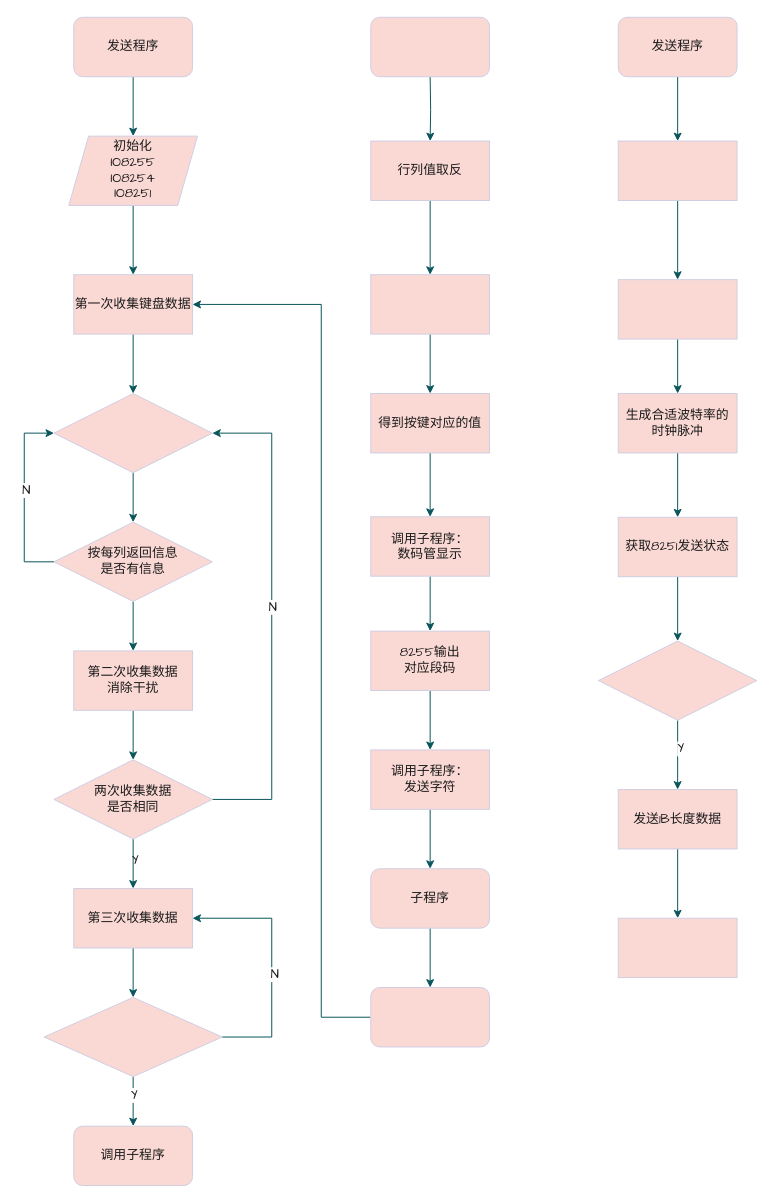
Image size: 774x1203. Some labels were removed from this diagram. The centre of each missing label's shape, as x and y in pixels:
"8254命令字输入" belongs at (677,170).
"发送结束 RET" belongs at (677,947).
"存入计数器初值" belongs at (677,309).
"延时程序" belongs at (430,1017).
"按每行输出音频信息" belongs at (132,433).
"按键是否按下" belongs at (132,1036).
"是否准备发送程序" belongs at (677,680).
"行数*4 + 列数" belongs at (430,304).
"调用子程序 计算键盘信息" belongs at (430,46).
